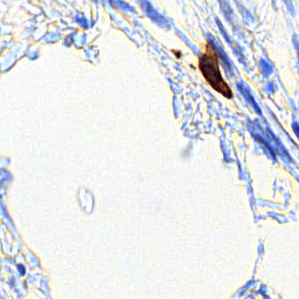Lymphocyte: (197, 48, 235, 100)
